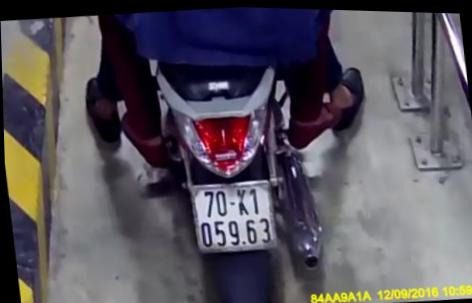LP: (185, 174, 279, 256)
